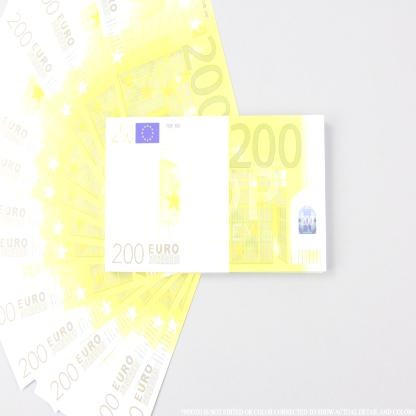euro_banknote: (107, 118, 326, 275), (116, 19, 235, 129), (5, 300, 187, 358), (32, 48, 170, 102)
